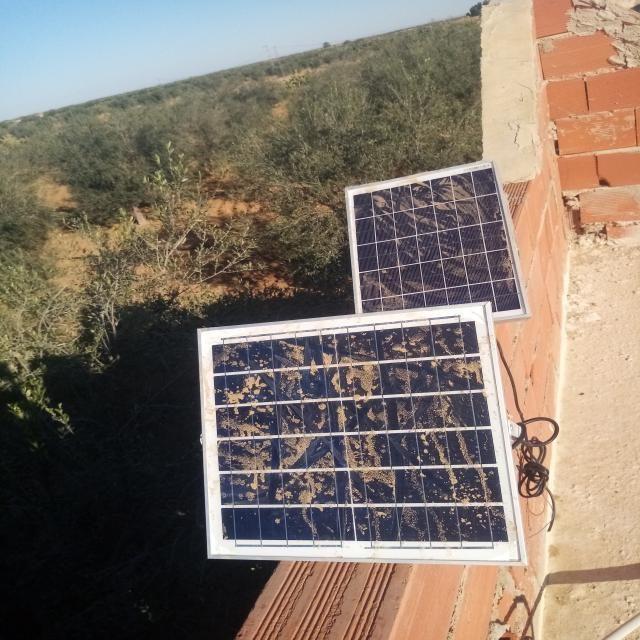faulty: (203, 305, 523, 562), (343, 163, 523, 317)
